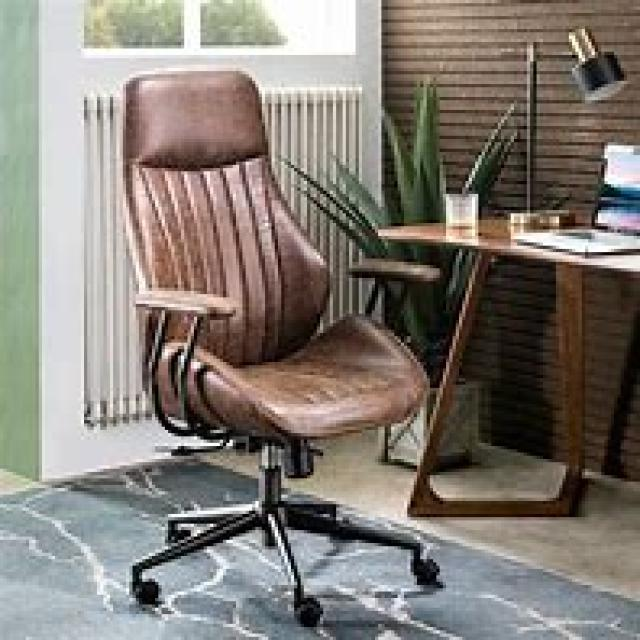chair: (116, 68, 443, 627)
